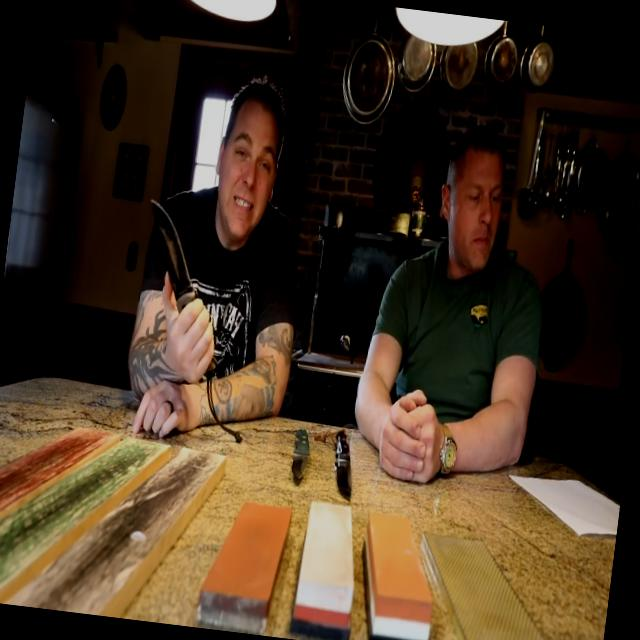knife: (122, 182, 236, 369)
